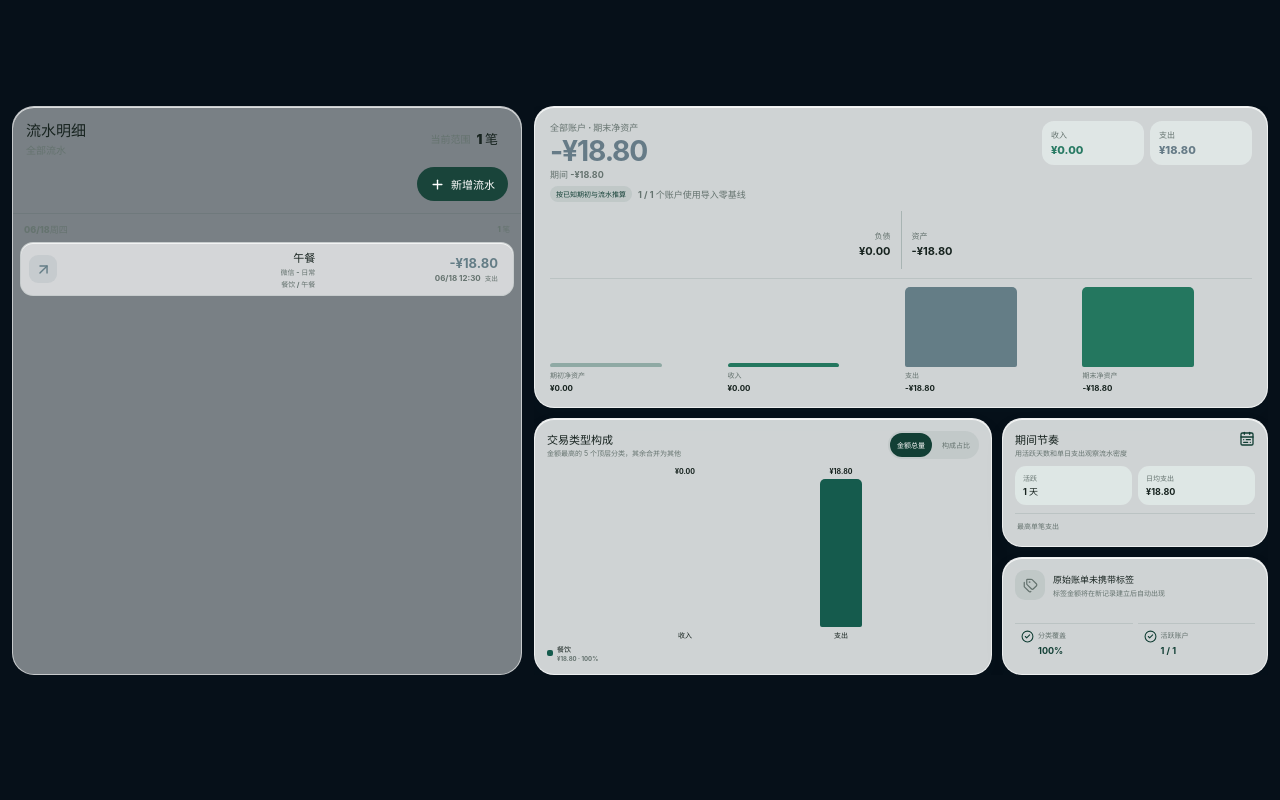
Scenario: AccountingPage real data integration › persists an edited transaction before closing the dialog
Click the button with aria-label "查看流水 午餐". click: (298, 272)
box: x1=20 y1=242 x2=514 y2=296
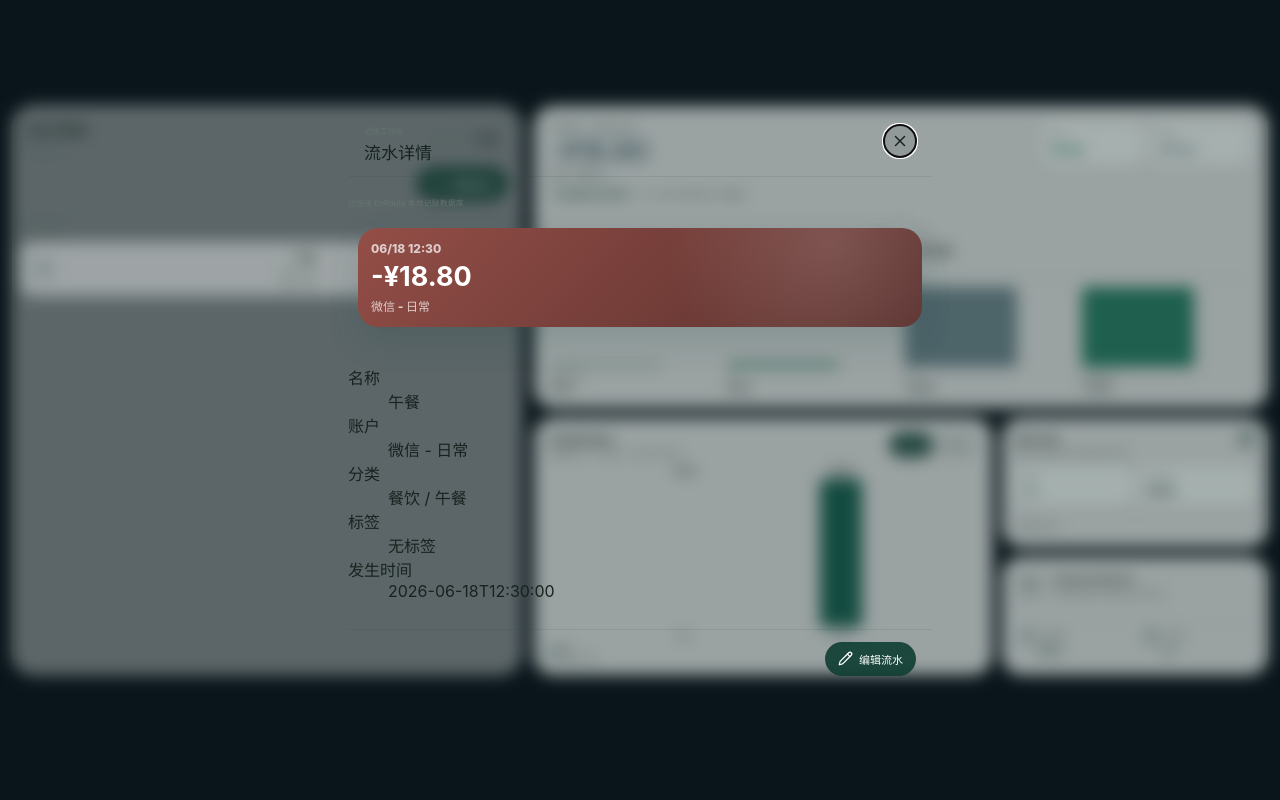
Click the button "编辑流水". click: (870, 658)
box: x1=825 y1=642 x2=916 y2=676
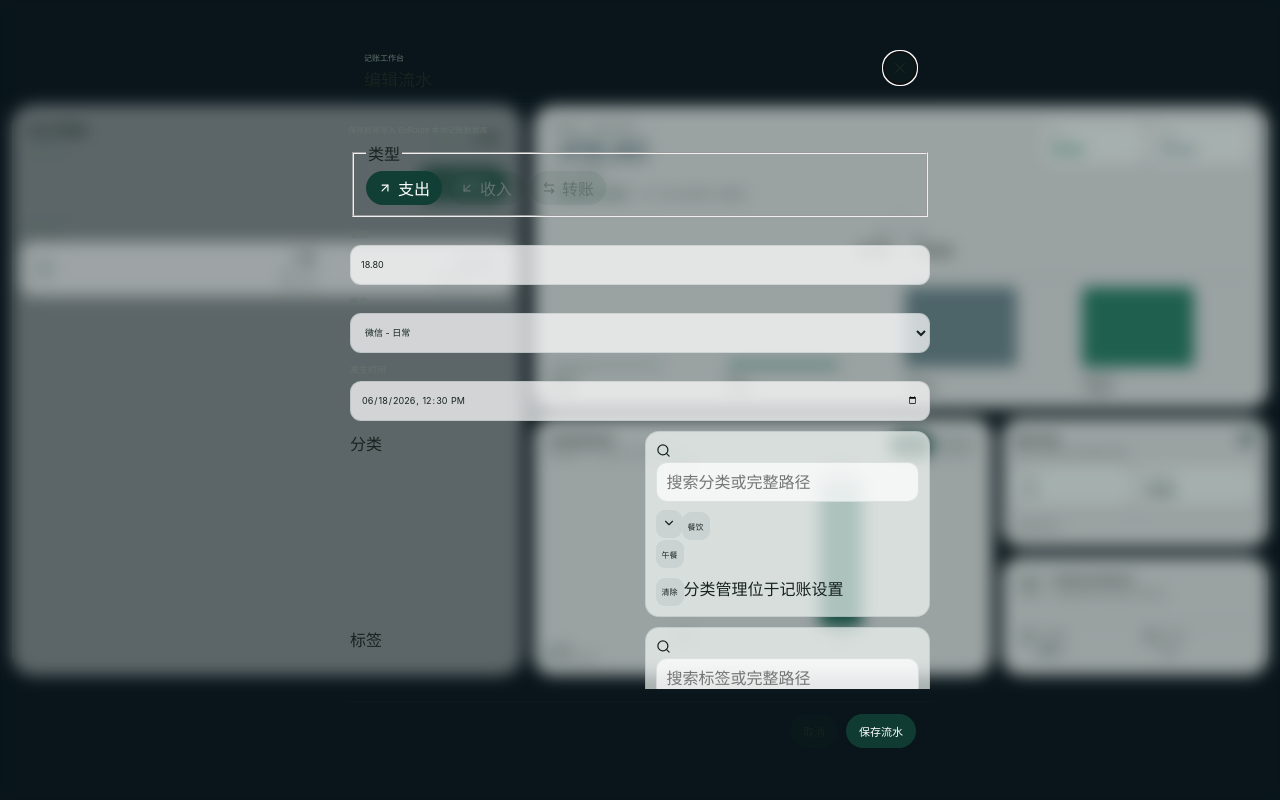
Replace the text in the field labelled "金额" with "20.80". click: (640, 265)
box: x1=350 y1=245 x2=930 y2=285
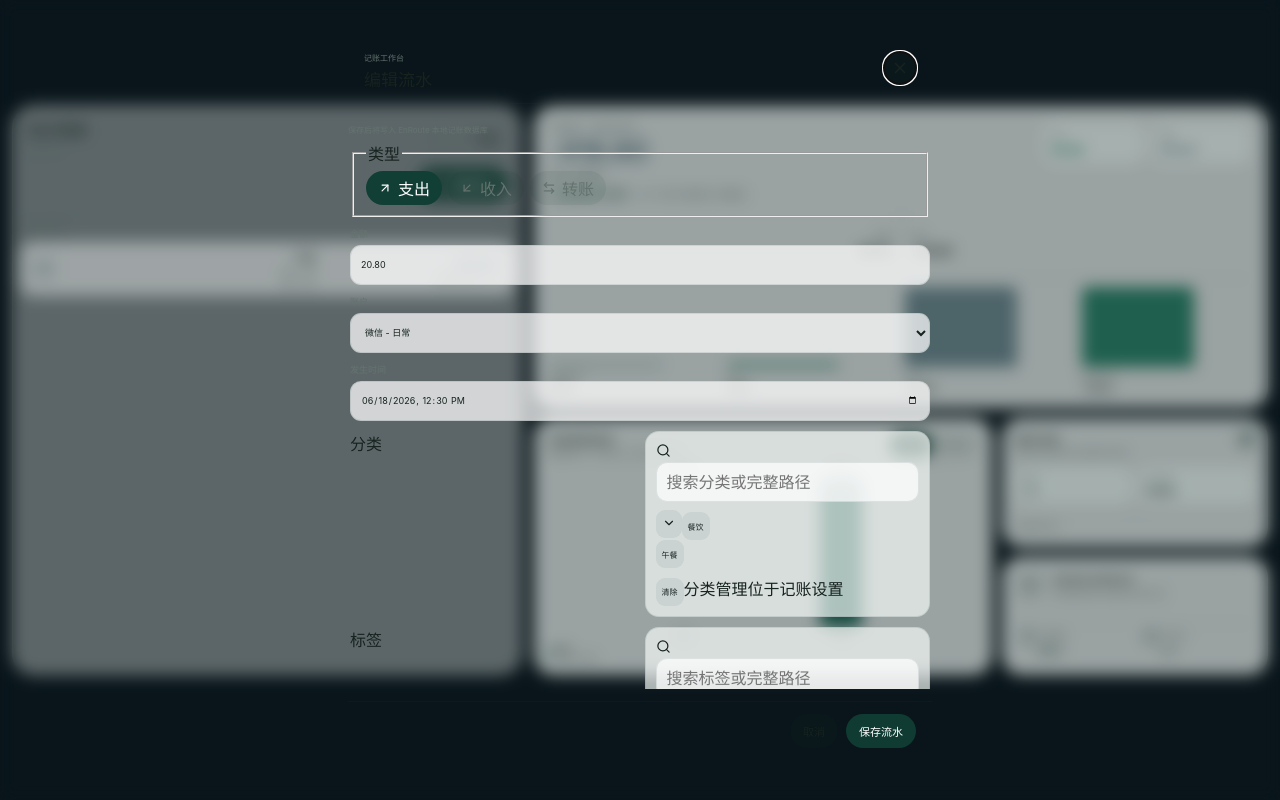
Click the button "保存流水". click: (881, 731)
box: x1=846 y1=714 x2=916 y2=748
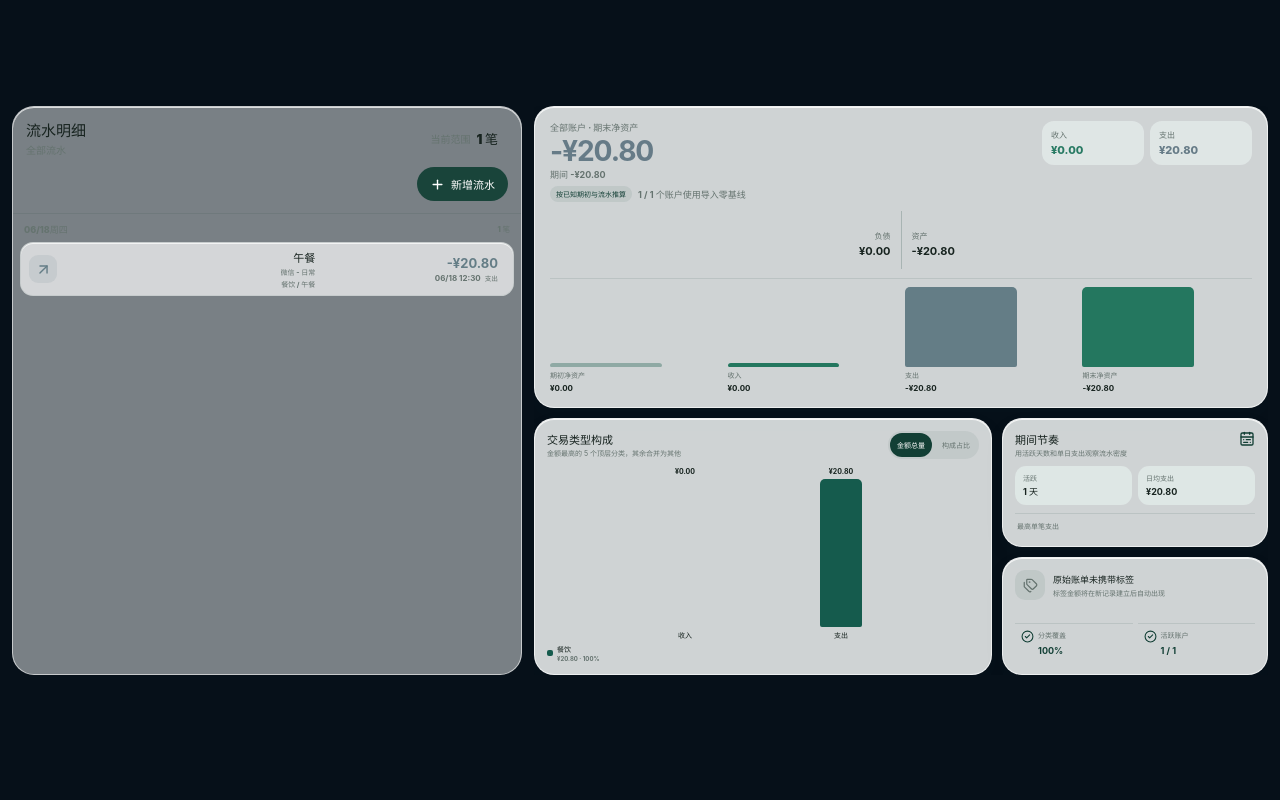
Expected: the dialog is gone
Expected: the text "-¥20.80" below "当前范围" is shown, x1=447 y1=255 x2=498 y2=271
